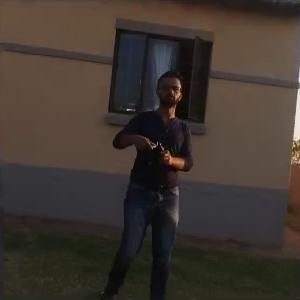follow: (95, 61, 200, 299)
